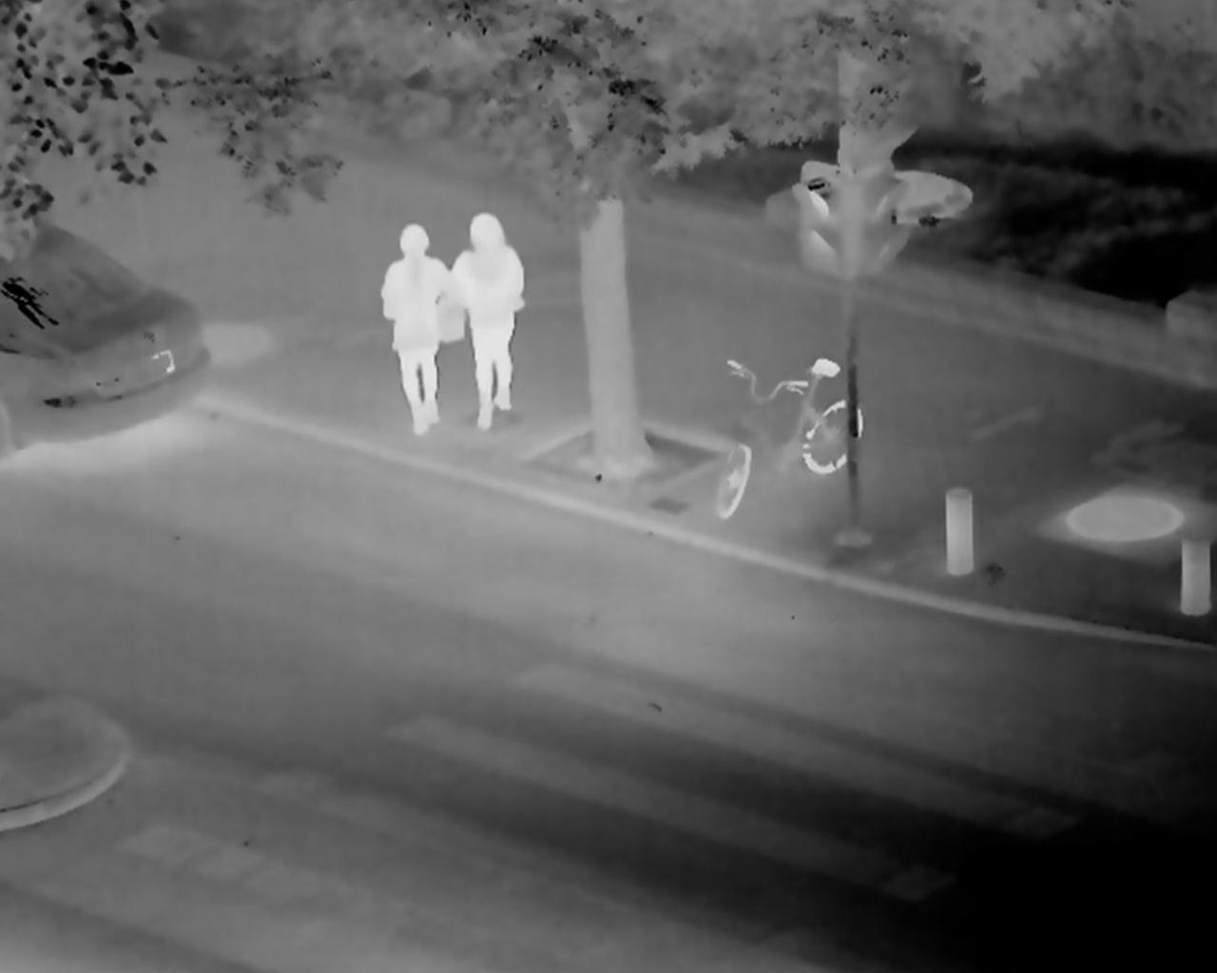person: (448, 213, 528, 438), (379, 222, 454, 439)
